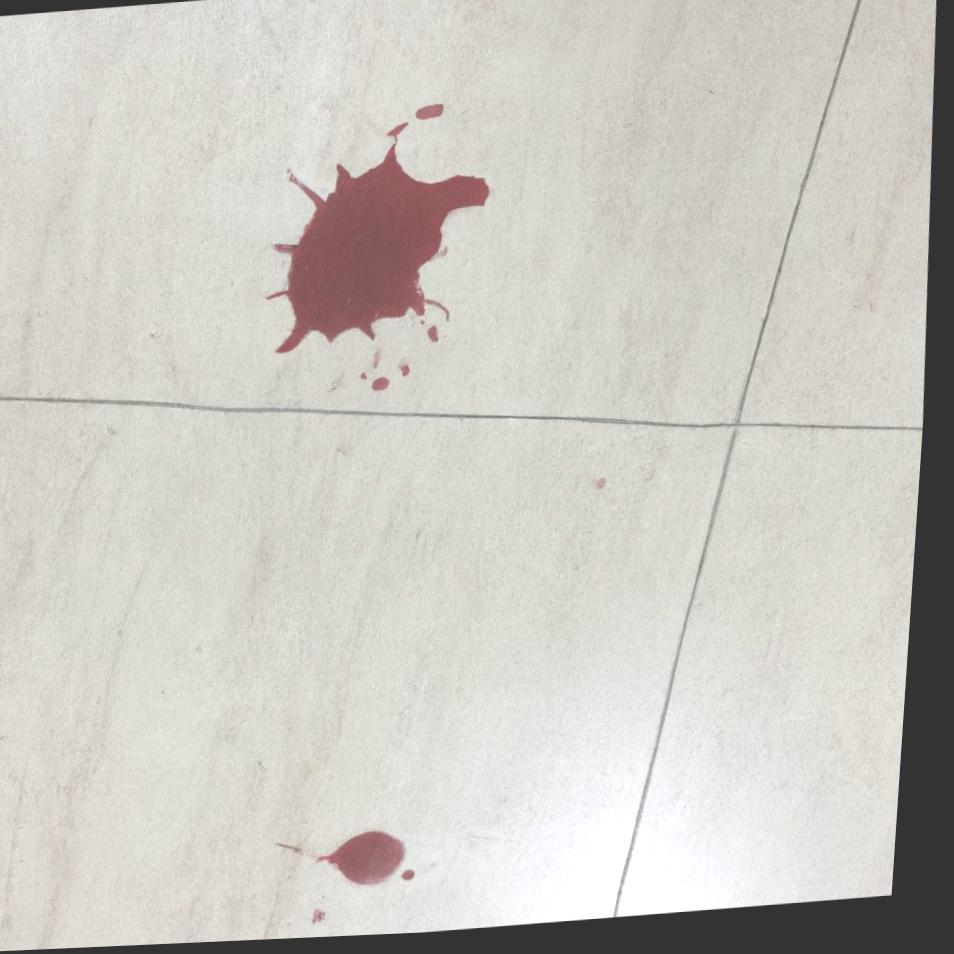Fire: (270, 125, 495, 356), (330, 834, 418, 889), (417, 107, 446, 123), (376, 380, 395, 395), (433, 329, 445, 346), (415, 873, 429, 885), (407, 367, 417, 381)
